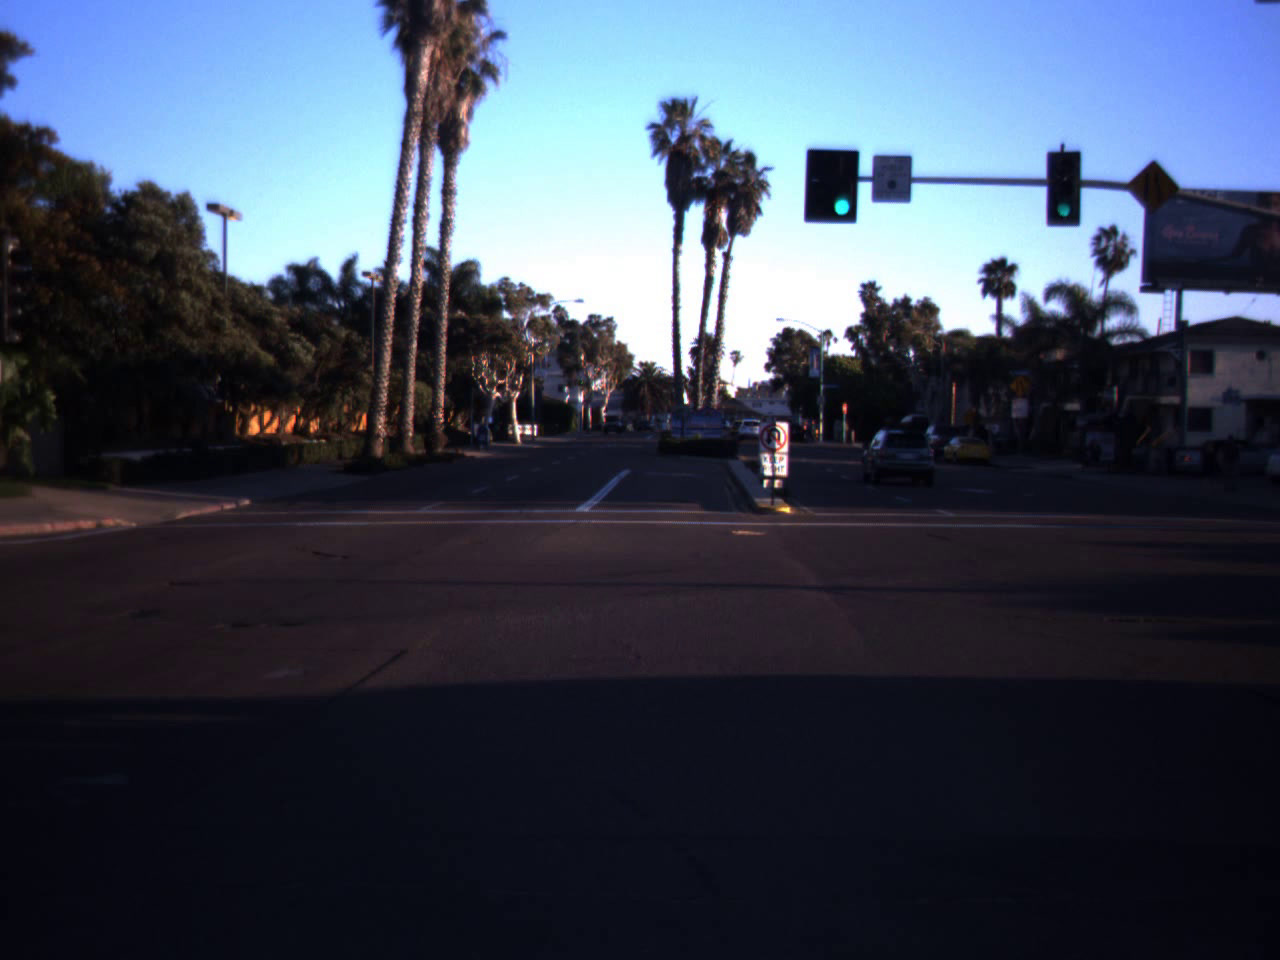go: (1044, 150, 1083, 225), (824, 151, 860, 221)
